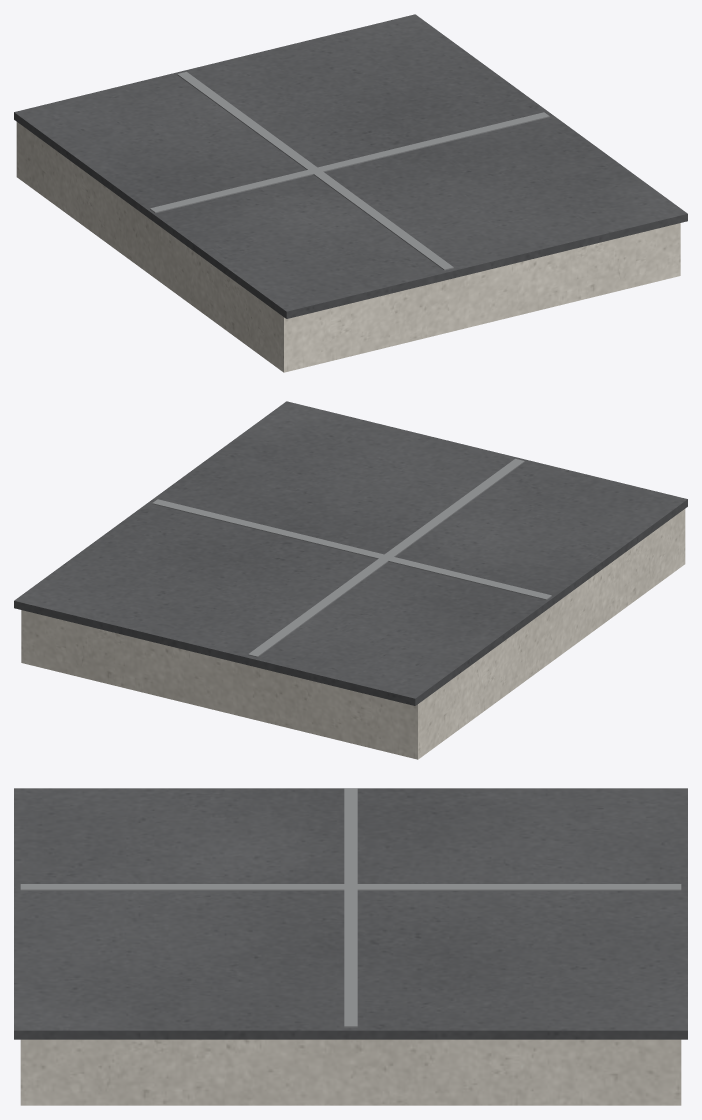
The model's file is floor_membrane_r_e1000.glb.
3 views of the same model, one above another, from view 1: azimuth 30°, elevation 25°; view 2: azimuth 150°, elevation 25°; view 3: azimuth 270°, elevation 25° (orthographic). The views are drawn at different scales.
Parts seen in each view (by area): view 1: floor_membrane_r_e1000_membrane, floor_membrane_r_e1000_plaster, floor_membrane_r_e1000_seam; view 2: floor_membrane_r_e1000_membrane, floor_membrane_r_e1000_plaster, floor_membrane_r_e1000_seam; view 3: floor_membrane_r_e1000_membrane, floor_membrane_r_e1000_plaster, floor_membrane_r_e1000_seam.
Boxes of the visible parts, x1,y1,x2,y2 form: floor_membrane_r_e1000_membrane: [14, 14, 687, 318]; floor_membrane_r_e1000_plaster: [16, 122, 680, 372]; floor_membrane_r_e1000_seam: [150, 71, 549, 270]; floor_membrane_r_e1000_membrane: [14, 401, 687, 705]; floor_membrane_r_e1000_plaster: [21, 509, 685, 759]; floor_membrane_r_e1000_seam: [152, 458, 551, 657]; floor_membrane_r_e1000_membrane: [14, 788, 687, 1039]; floor_membrane_r_e1000_plaster: [20, 1039, 681, 1105]; floor_membrane_r_e1000_seam: [20, 788, 681, 1027].
Size of the model in its own units: 1.7 by 0.259 by 2.
Materials: 3 (2 with a texture image).
